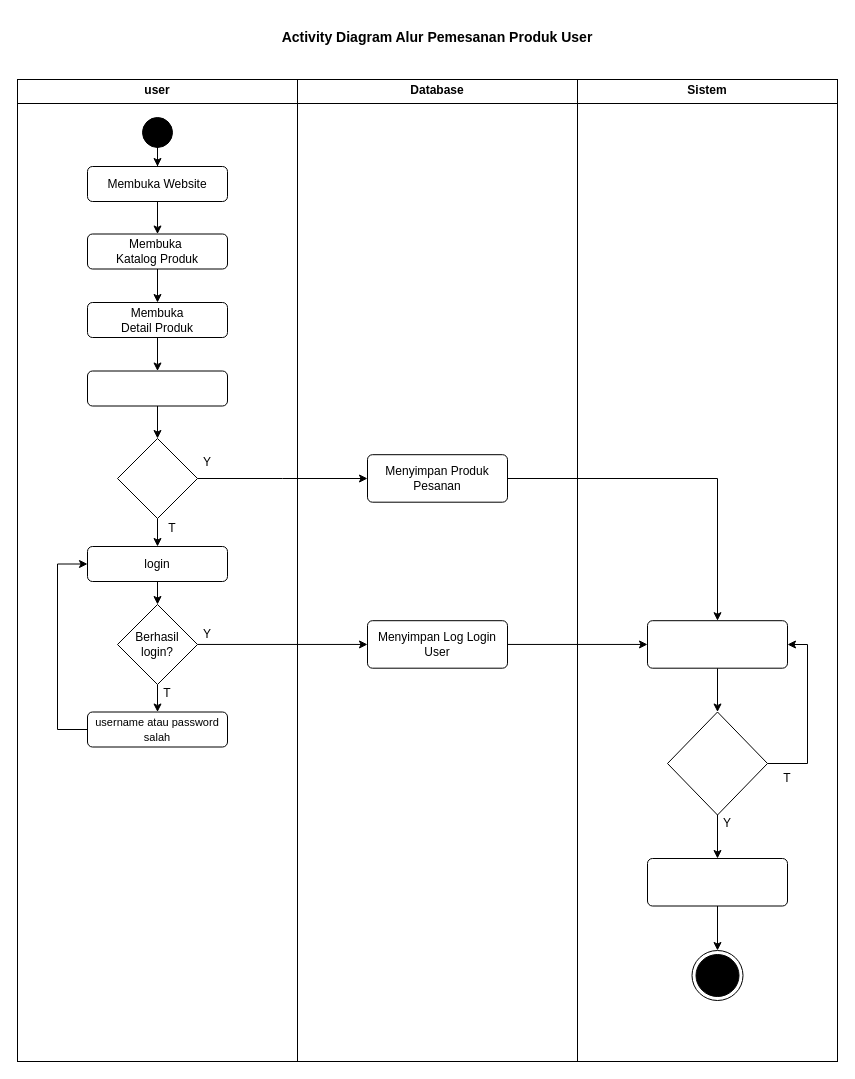
The diagram is 855 pixels wide and 1079 high, and some of its shapes have lost their labels. Each missing label, with the centre of its shape:
"Menampilkan Form Pemesanan" belongs at point (717, 644).
"Menampilkan Halaman Invoice" belongs at point (717, 882).
"Pesan Produk" belongs at point (157, 388).
"Sudah Login?" belongs at point (157, 478).
"Validasi Pembayaran" belongs at point (717, 763).
